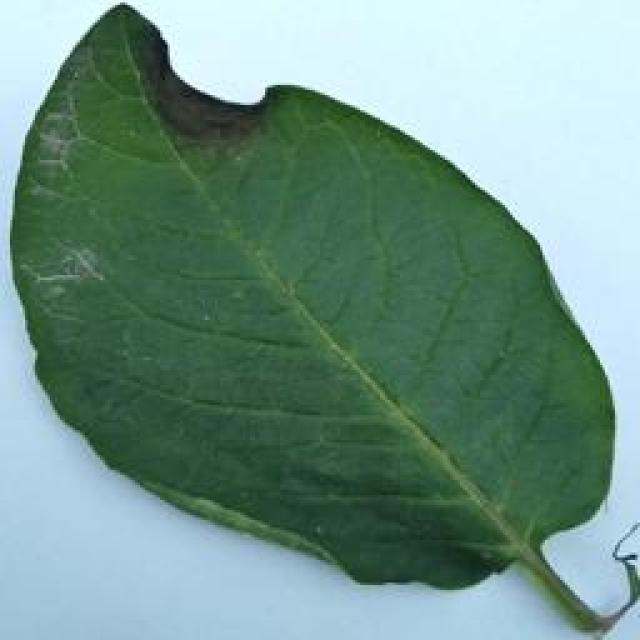Potato_Late_Blight: (13, 6, 619, 632)
